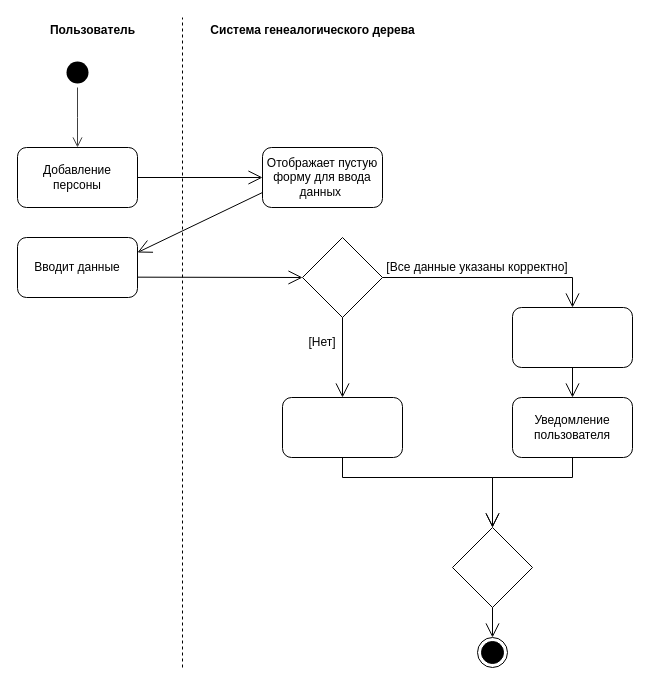
Some shapes in this 650 by 686 pixel diagram are drawn without their labels. The shapes that lost their labels are listed below. From the top down, each one's centre as x and y in pixels, then its label:
At (x=572, y=337): "Создание новой персоны".
At (x=342, y=427): "Сообщение об ошибочности данных".
